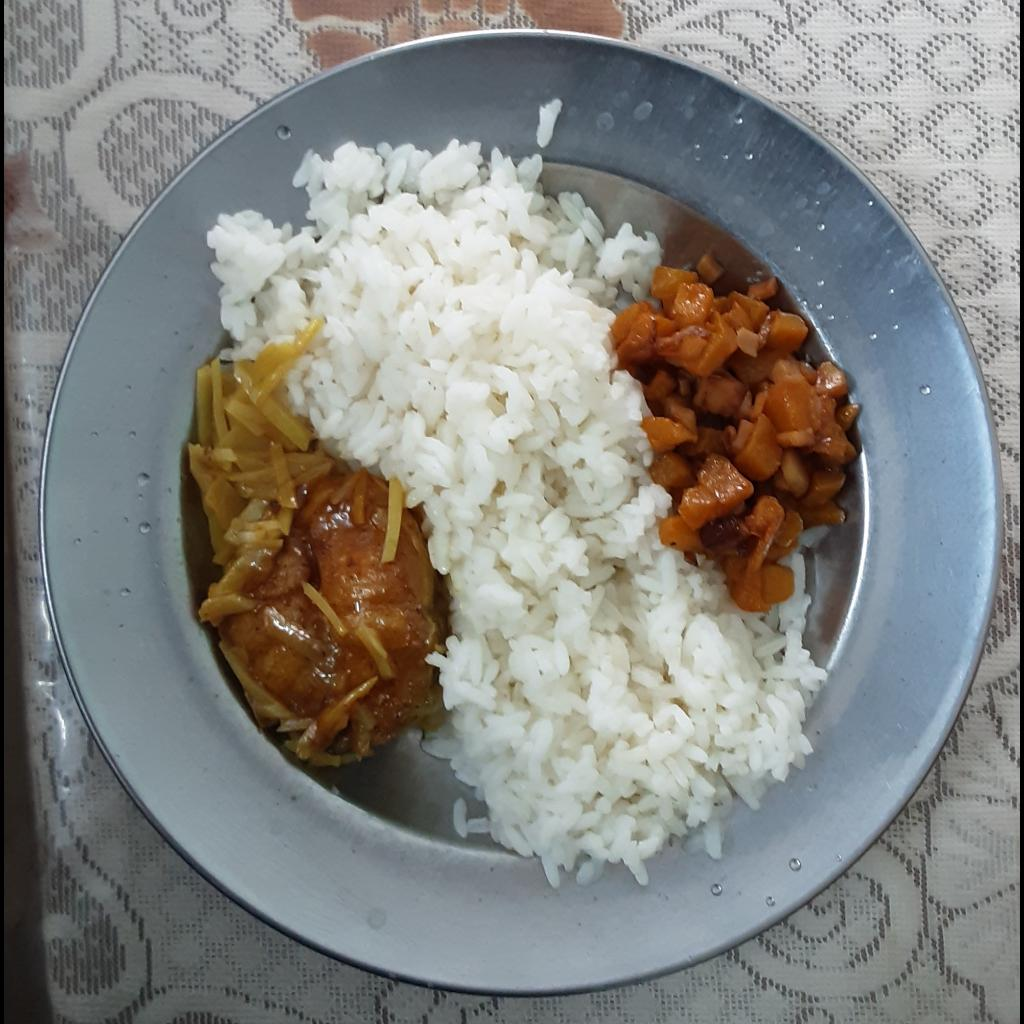fish: (242, 469, 456, 735), (223, 611, 374, 711)
kumra-vaji: (611, 257, 854, 613)
potato: (188, 317, 407, 763)
rice: (208, 143, 823, 890), (538, 99, 565, 146)
